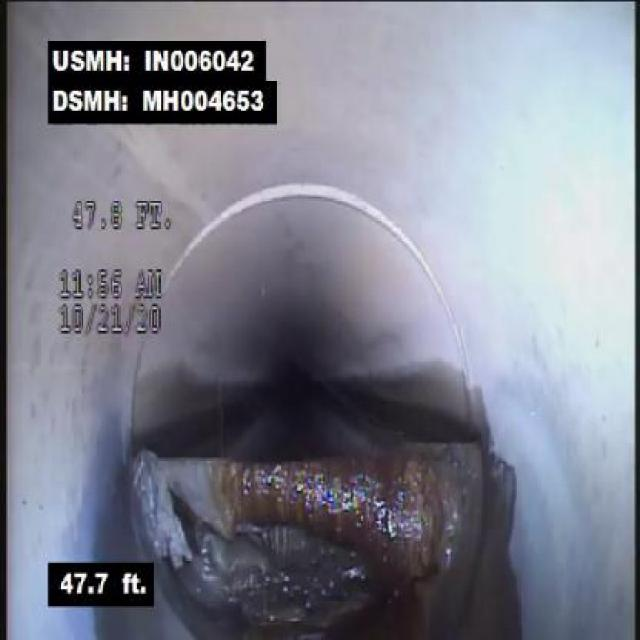Obstacle: (128, 402, 504, 638)
